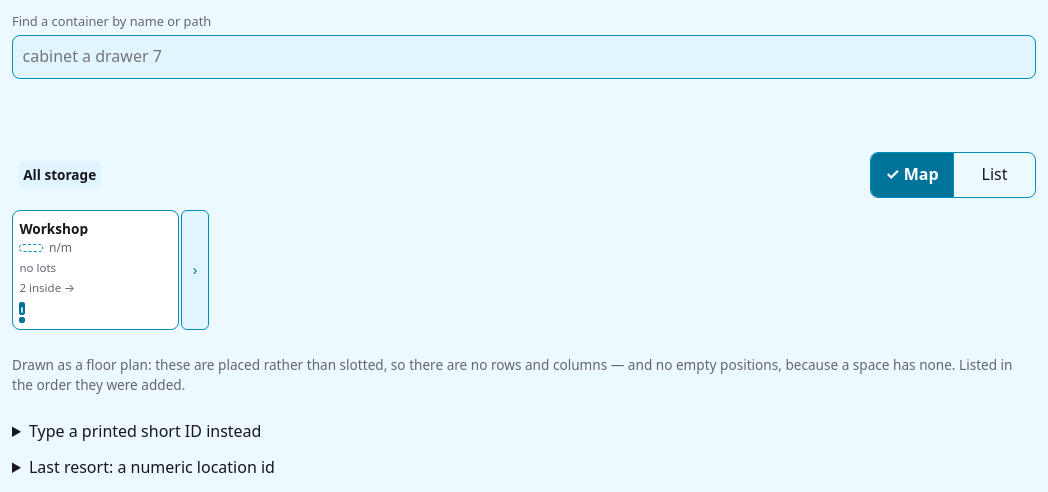
Scenario: browsing › starts at the top level and drills in
Click the button "List".
click(994, 175)  # box [953,153,1035,197]
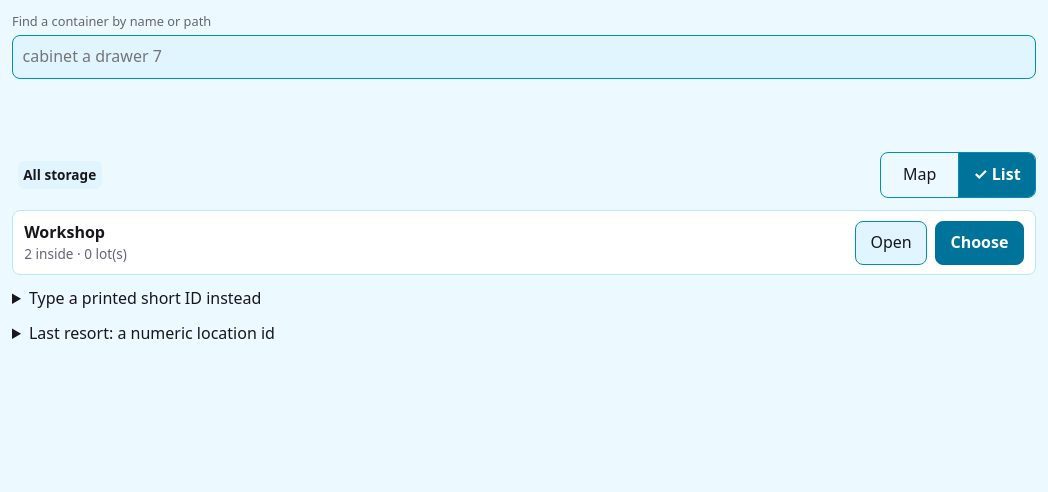
Click the button "Open".
click(891, 243)  # box [855,221,927,265]
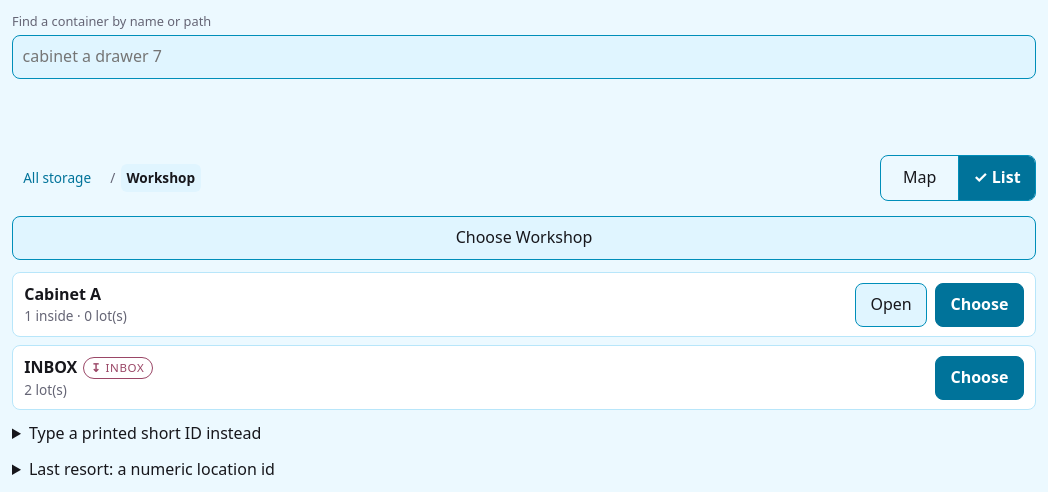
Expected: the text "Cabinet A" is shown, [24,283,101,306]
Expected: the text "INBOX" is shown, [24,356,77,380]
